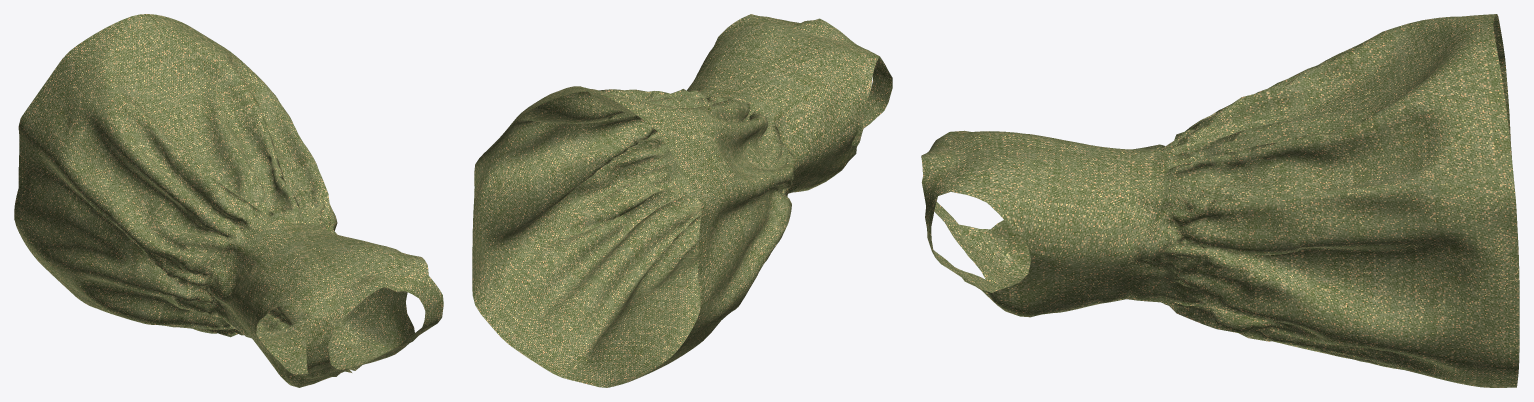
File: dress3.obj
The picture shows the model from 3 angles, left to right: view 1: azimuth 30°, elevation 25°; view 2: azimuth 150°, elevation 25°; view 3: azimuth 270°, elevation 25°; orthographic projection. The views are drawn at different scales.
Size of the model in its own units: 0.4076 by 0.4771 by 0.7526.
1 material, 1 textured.
